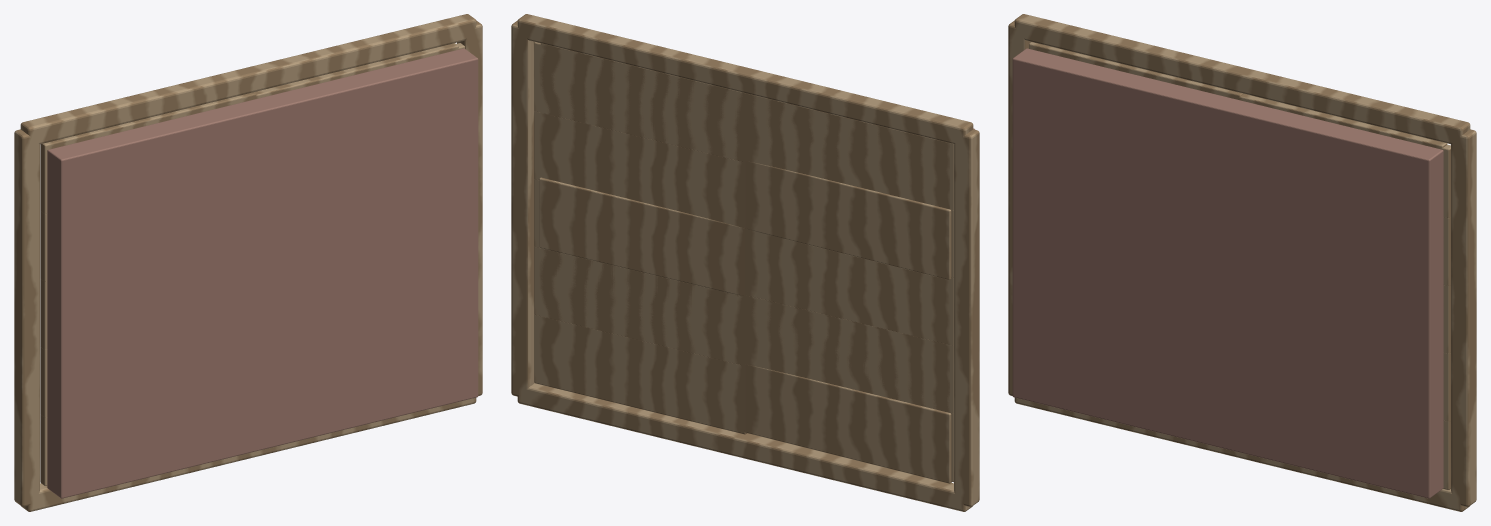
File: ENV_BoardedWindow.fbx
3 views of the same model, side by side, from view 1: azimuth 30°, elevation 25°; view 2: azimuth 150°, elevation 25°; view 3: azimuth 330°, elevation 25° (orthographic).
Parts seen in each view (by area): view 1: Window_BrickWall, Window_Frame, Window_Board_05, Window_Board_Broken_05, Window_Board_Broken_01, Window_Board_Broken_02, Window_Board_Broken_03, Window_Board_Broken_04; view 2: Window_Frame, Window_Board_05, Window_Board_Broken_02, Window_Board_02, Window_Board_Broken_05, Window_Board_Broken_01, Window_Board_01, Window_Board_04, Window_Board_03, Window_Board_Broken_03, Window_Board_Broken_04; view 3: Window_BrickWall, Window_Frame, Window_Board_05, Window_Board_Broken_05, Window_Board_Broken_01, Window_Board_Broken_02, Window_Board_Broken_04, Window_Board_Broken_03.
Part boxes in pixels (<box>): Window_BrickWall: <box>47,48,478,498</box>; Window_Frame: <box>14,14,482,511</box>; Window_Board_05: <box>49,43,458,149</box>; Window_Board_Broken_05: <box>40,43,464,213</box>; Window_Board_Broken_01: <box>40,415,47,485</box>; Window_Board_Broken_02: <box>40,347,47,417</box>; Window_Board_Broken_03: <box>40,279,47,349</box>; Window_Board_Broken_04: <box>40,211,47,281</box>; Window_Frame: <box>511,14,979,511</box>; Window_Board_05: <box>540,43,949,209</box>; Window_Board_Broken_02: <box>534,247,953,413</box>; Window_Board_02: <box>541,248,949,412</box>; Window_Board_Broken_05: <box>534,42,953,209</box>; Window_Board_Broken_01: <box>534,314,953,482</box>; Window_Board_01: <box>744,364,951,483</box>; Window_Board_04: <box>743,161,951,279</box>; Window_Board_03: <box>539,177,746,296</box>; Window_Board_Broken_03: <box>534,179,953,345</box>; Window_Board_Broken_04: <box>534,111,953,277</box>; Window_BrickWall: <box>1012,48,1443,498</box>; Window_Frame: <box>1008,14,1476,511</box>; Window_Board_05: <box>1032,47,1447,149</box>; Window_Board_Broken_05: <box>1029,42,1450,217</box>; Window_Board_Broken_01: <box>1443,420,1450,489</box>; Window_Board_Broken_02: <box>1443,353,1450,421</box>; Window_Board_Broken_04: <box>1443,217,1450,285</box>; Window_Board_Broken_03: <box>1443,285,1450,353</box>.
Size of the model in its own units: 148 by 118 by 14.5.
